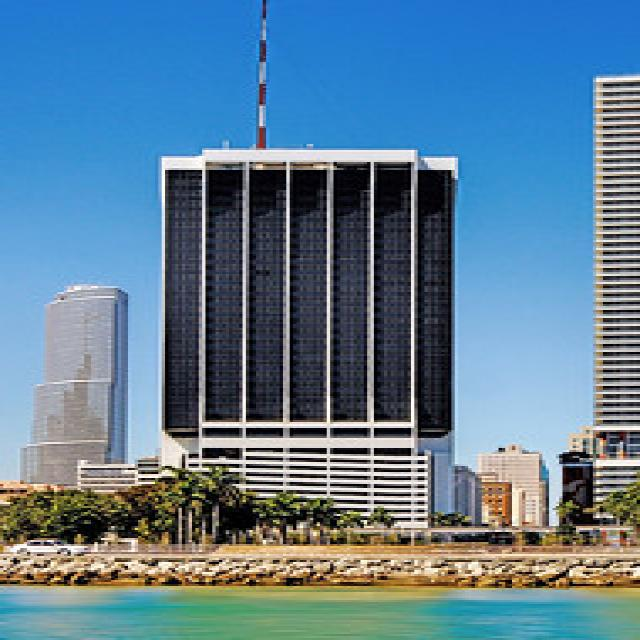Normal_building: (152, 143, 472, 533), (17, 279, 128, 491)
